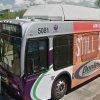Bus: (1, 10, 100, 100)
